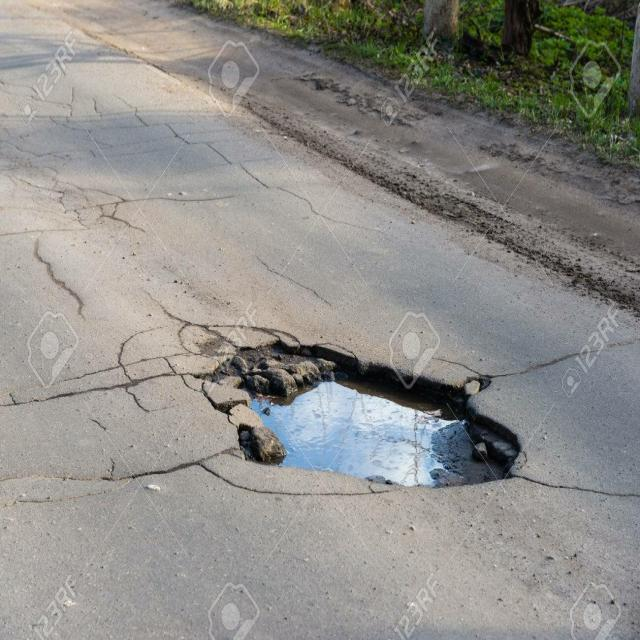Pothole: (198, 284, 526, 523)
